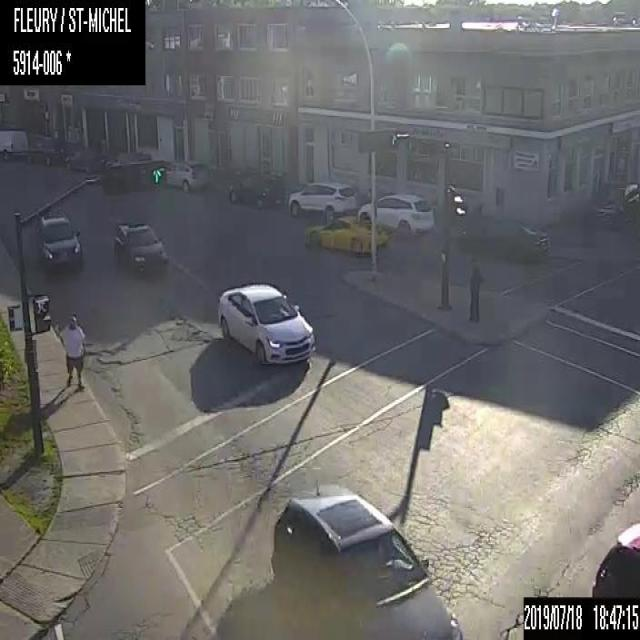pedestrian: (58, 313, 88, 387), (468, 253, 479, 320)
vehicle: (270, 488, 460, 639), (215, 283, 314, 365), (457, 215, 548, 261), (591, 520, 639, 595), (358, 188, 436, 233), (304, 216, 386, 254), (111, 221, 166, 275), (34, 210, 81, 270), (288, 181, 355, 219), (227, 164, 284, 207), (591, 181, 639, 227), (166, 157, 206, 192), (30, 136, 65, 165), (65, 147, 105, 172), (0, 127, 28, 160), (105, 151, 164, 165)
